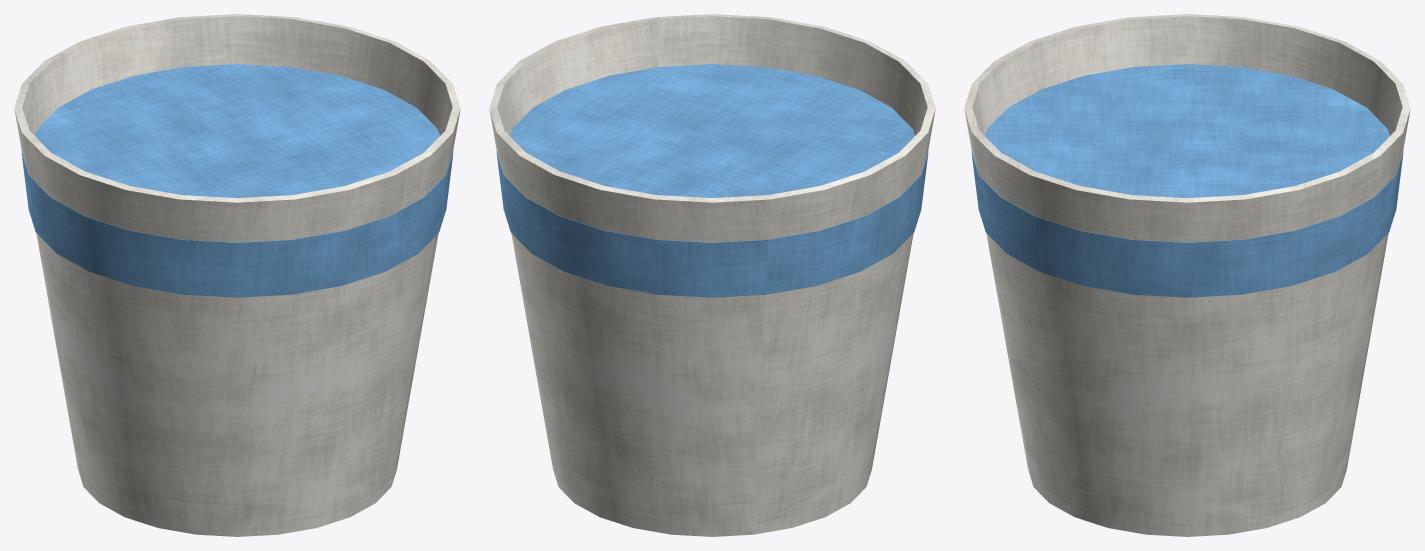
The model's file is paper_cup.gltf.
3 renders of one model, left to right at view 1: azimuth 30°, elevation 25°; view 2: azimuth 150°, elevation 25°; view 3: azimuth 270°, elevation 25°, orthographic.
Visible parts, largest first — view 1: paper_cup; view 2: paper_cup; view 3: paper_cup.
Boxes of the visible parts, box(x1,y1,x2,y2) form: paper_cup: box(14, 14, 460, 536); paper_cup: box(489, 14, 935, 536); paper_cup: box(964, 14, 1410, 536).
Bounding box in the file's own units: 0.56 × 0.5016 × 0.56.
Materials: 2 (2 with a texture image).
